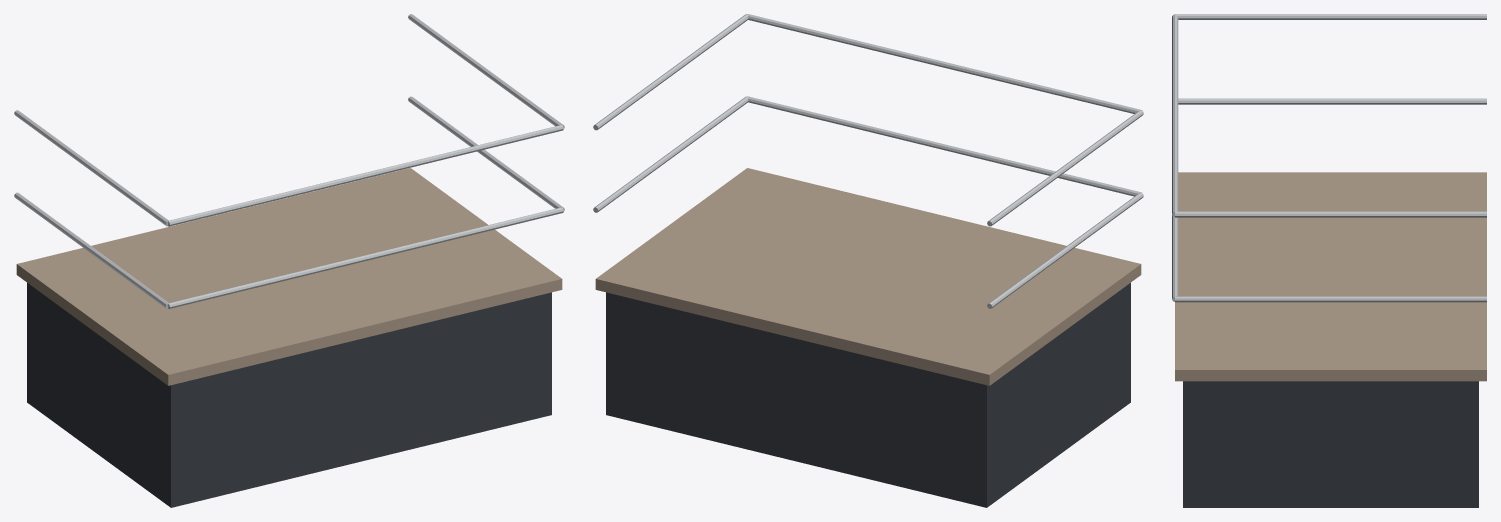
The model's file is SM_Podium_6.glb.
3 views of the same model, side by side, from view 1: azimuth 30°, elevation 25°; view 2: azimuth 150°, elevation 25°; view 3: azimuth 270°, elevation 25° (orthographic). The views are drawn at different scales.
Visible parts, largest first — view 1: SM_Podium_6_1, SM_Podium_6_0, SM_Podium_6_2, SM_Podium_6_3, SM_Podium_6_4, SM_Podium_6_5, SM_Podium_6_7, SM_Podium_6_6; view 2: SM_Podium_6_1, SM_Podium_6_0, SM_Podium_6_3, SM_Podium_6_2, SM_Podium_6_4, SM_Podium_6_5, SM_Podium_6_7, SM_Podium_6_6; view 3: SM_Podium_6_0, SM_Podium_6_1, SM_Podium_6_6, SM_Podium_6_7, SM_Podium_6_4, SM_Podium_6_5, SM_Podium_6_3, SM_Podium_6_2.
Part boxes in pixels (x1,y1,x2,y2): SM_Podium_6_1: [27, 283, 551, 507]; SM_Podium_6_0: [16, 168, 562, 385]; SM_Podium_6_2: [168, 207, 563, 308]; SM_Podium_6_3: [168, 125, 563, 226]; SM_Podium_6_4: [14, 192, 168, 308]; SM_Podium_6_5: [14, 110, 168, 226]; SM_Podium_6_7: [408, 14, 564, 128]; SM_Podium_6_6: [408, 96, 564, 211]; SM_Podium_6_1: [606, 283, 1130, 507]; SM_Podium_6_0: [595, 168, 1141, 385]; SM_Podium_6_3: [747, 14, 1142, 113]; SM_Podium_6_2: [747, 96, 1141, 196]; SM_Podium_6_4: [987, 192, 1143, 308]; SM_Podium_6_5: [987, 110, 1143, 226]; SM_Podium_6_7: [593, 14, 748, 130]; SM_Podium_6_6: [593, 96, 748, 212]; SM_Podium_6_0: [1175, 172, 1486, 381]; SM_Podium_6_1: [1183, 381, 1478, 507]; SM_Podium_6_6: [1175, 296, 1486, 302]; SM_Podium_6_7: [1175, 211, 1486, 217]; SM_Podium_6_4: [1178, 98, 1486, 104]; SM_Podium_6_5: [1175, 14, 1486, 19]; SM_Podium_6_3: [1172, 14, 1178, 216]; SM_Podium_6_2: [1172, 215, 1178, 301].
Bounding box in the file's own units: 3.04 × 2.12 × 2.02.
